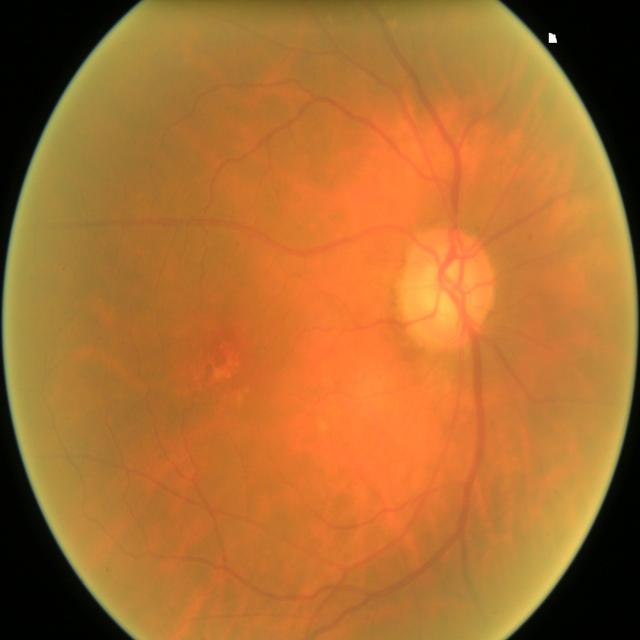OC: (423, 262, 464, 312)
OD: (398, 228, 494, 346)
